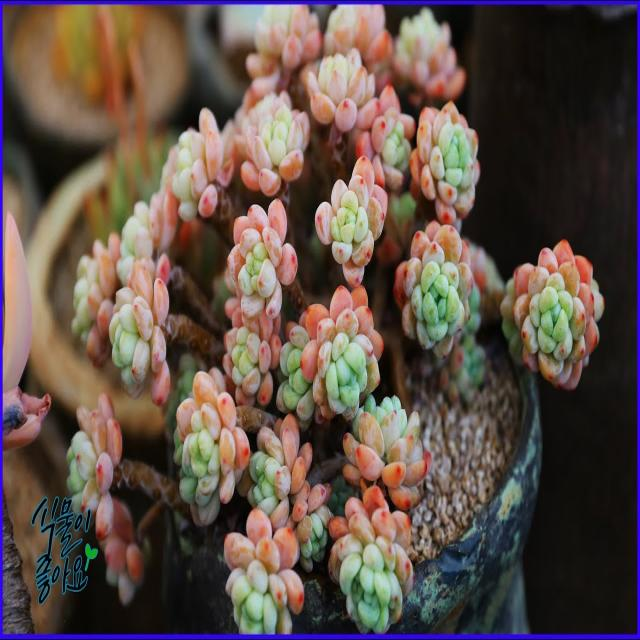LumiRose: (500, 240, 605, 390), (328, 484, 414, 633), (288, 287, 384, 419), (239, 413, 326, 554), (174, 367, 250, 526), (149, 109, 234, 251), (394, 220, 474, 358), (342, 393, 431, 511), (315, 158, 388, 287), (109, 253, 170, 406), (228, 198, 298, 320), (66, 393, 122, 540), (225, 529, 304, 633), (418, 102, 480, 231), (236, 91, 310, 198), (392, 7, 466, 103), (301, 47, 380, 133), (116, 180, 179, 284), (356, 84, 416, 191), (71, 240, 118, 367), (222, 307, 281, 407), (246, 4, 322, 79), (324, 4, 392, 70), (422, 535, 463, 560)
